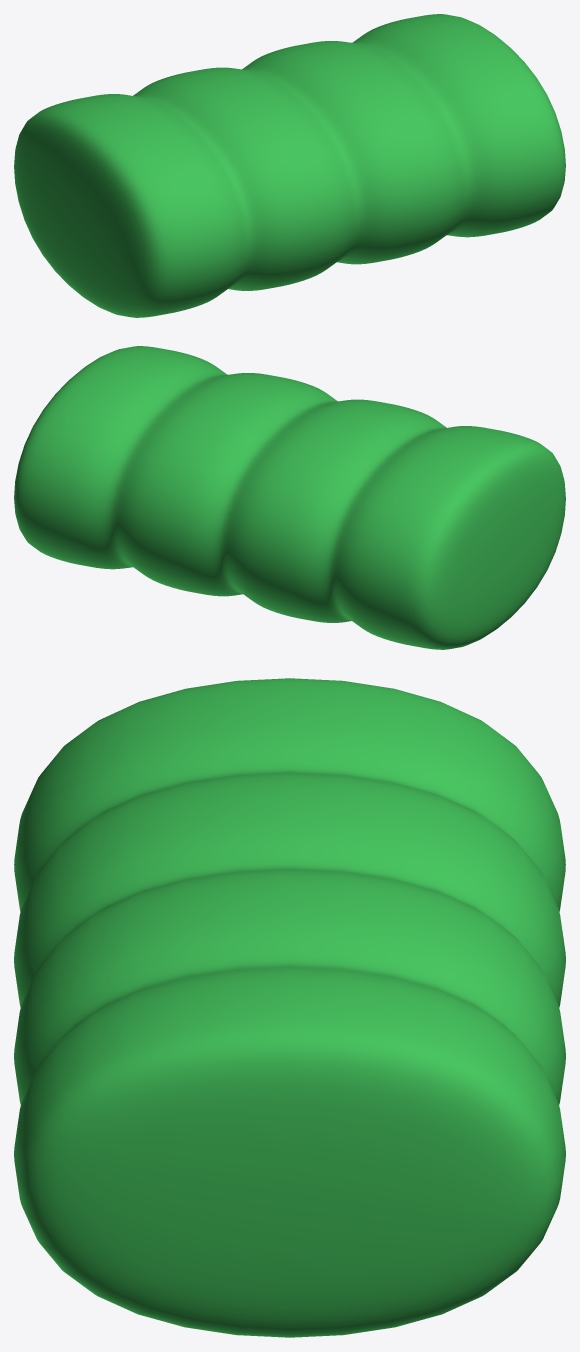
File: jumper 2.fbx
The picture shows the model from 3 angles, top to bottom: view 1: azimuth 30°, elevation 25°; view 2: azimuth 150°, elevation 25°; view 3: azimuth 270°, elevation 25°; orthographic projection. The views are drawn at different scales.
Visible parts, largest first — view 1: jumper; view 2: jumper; view 3: jumper.
Part boxes in pixels (<box>): jumper: <box>14,14,565,317</box>; jumper: <box>14,346,565,649</box>; jumper: <box>14,678,565,1337</box>.
Bounding box in the file's own units: 300 × 117 × 182.
